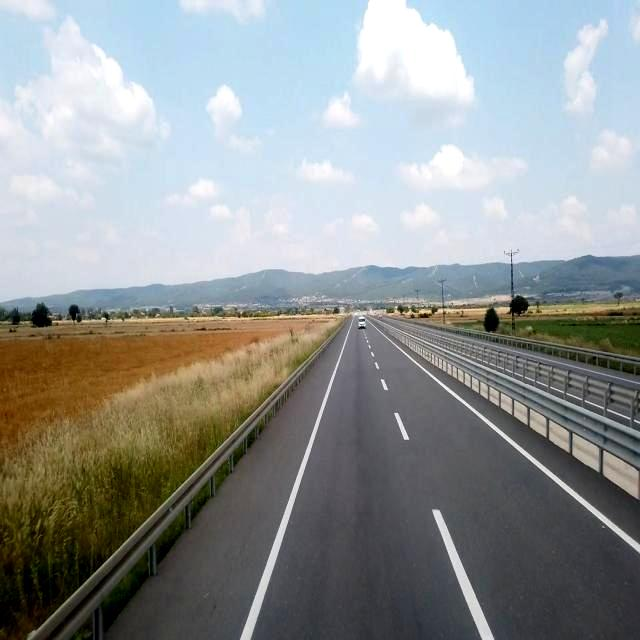lane: (378, 331, 640, 554), (239, 330, 349, 639), (431, 509, 495, 640), (394, 412, 409, 439)
road: (105, 321, 639, 639)
